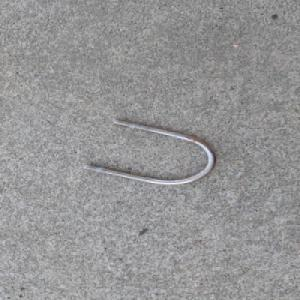ClampPart: (82, 119, 218, 185)
